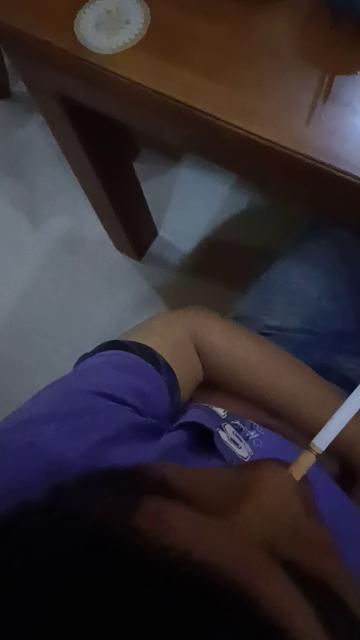Smoking: (288, 382, 360, 482)
